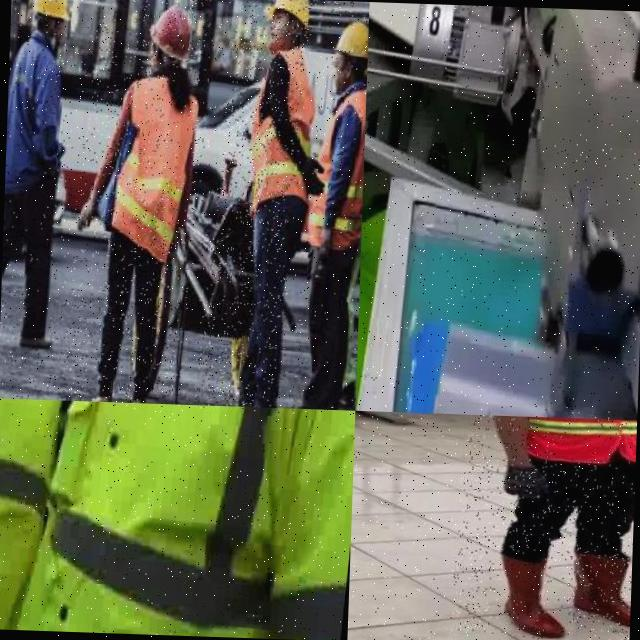boots: (488, 550, 575, 640), (564, 546, 632, 631), (13, 330, 57, 352), (228, 400, 278, 408), (286, 402, 334, 409), (87, 393, 112, 402), (127, 397, 150, 403)
helmet: (146, 2, 196, 62), (334, 18, 368, 59), (262, 0, 310, 28), (30, 0, 72, 21)
vest: (14, 399, 355, 640), (105, 72, 202, 266), (0, 397, 77, 631), (242, 42, 324, 224), (304, 82, 366, 252), (490, 415, 637, 471)
